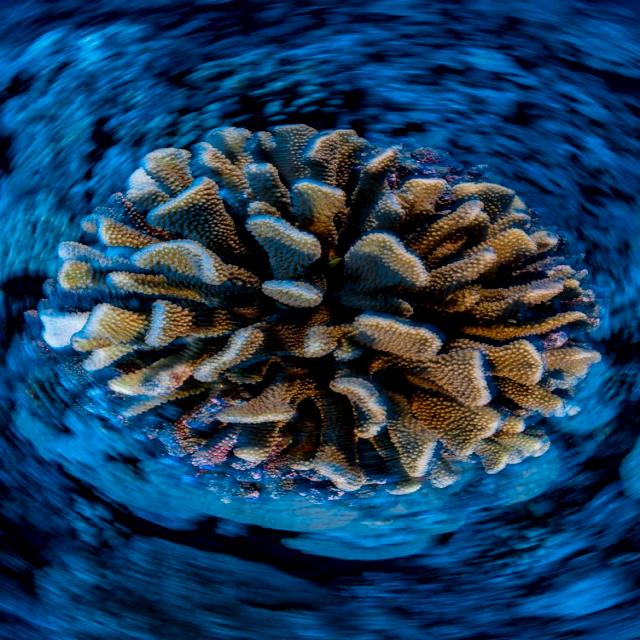Coral: (57, 122, 602, 494)
